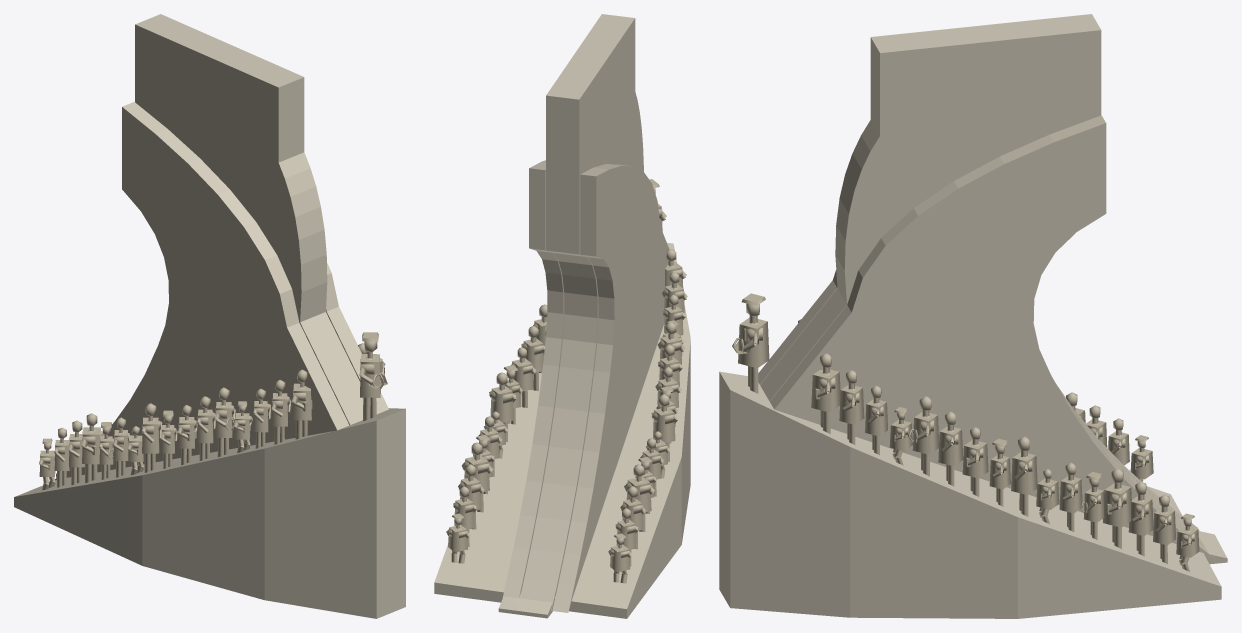
The model's file is padrao-descobrimentos-far.glb.
3 views of the same model, side by side, from view 1: azimuth 30°, elevation 25°; view 2: azimuth 150°, elevation 25°; view 3: azimuth 270°, elevation 25° (orthographic). The views are drawn at different scales.
Parts seen in each view (by area): view 1: padrao-descobrimentos-0-stone, padrao-descobrimentos-0-carving; view 2: padrao-descobrimentos-0-stone, padrao-descobrimentos-0-carving; view 3: padrao-descobrimentos-0-stone, padrao-descobrimentos-0-carving.
Boxes of the visible parts, box(x1,y1,x2,y2) form: padrao-descobrimentos-0-stone: box(14, 14, 405, 618); padrao-descobrimentos-0-carving: box(39, 332, 385, 490); padrao-descobrimentos-0-stone: box(434, 14, 690, 618); padrao-descobrimentos-0-carving: box(446, 179, 687, 583); padrao-descobrimentos-0-stone: box(719, 14, 1227, 618); padrao-descobrimentos-0-carving: box(732, 293, 1199, 571).
Size of the model in its own units: 23.6 by 52 by 44.6.
